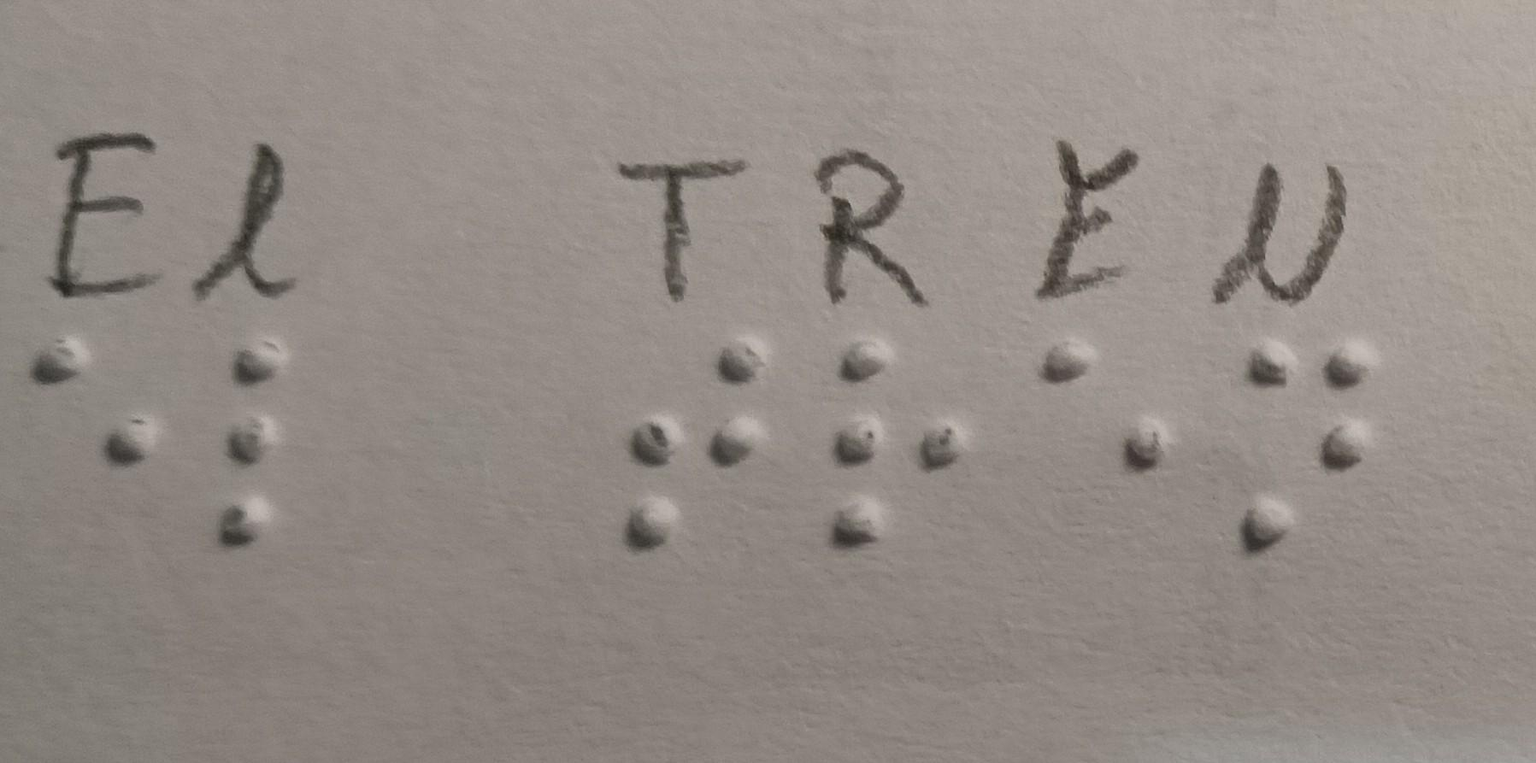e: (3, 311, 174, 482), (1026, 328, 1183, 514)
l: (212, 316, 296, 569)
n: (1221, 333, 1407, 557)
r: (793, 321, 973, 571)
t: (581, 316, 780, 584)
